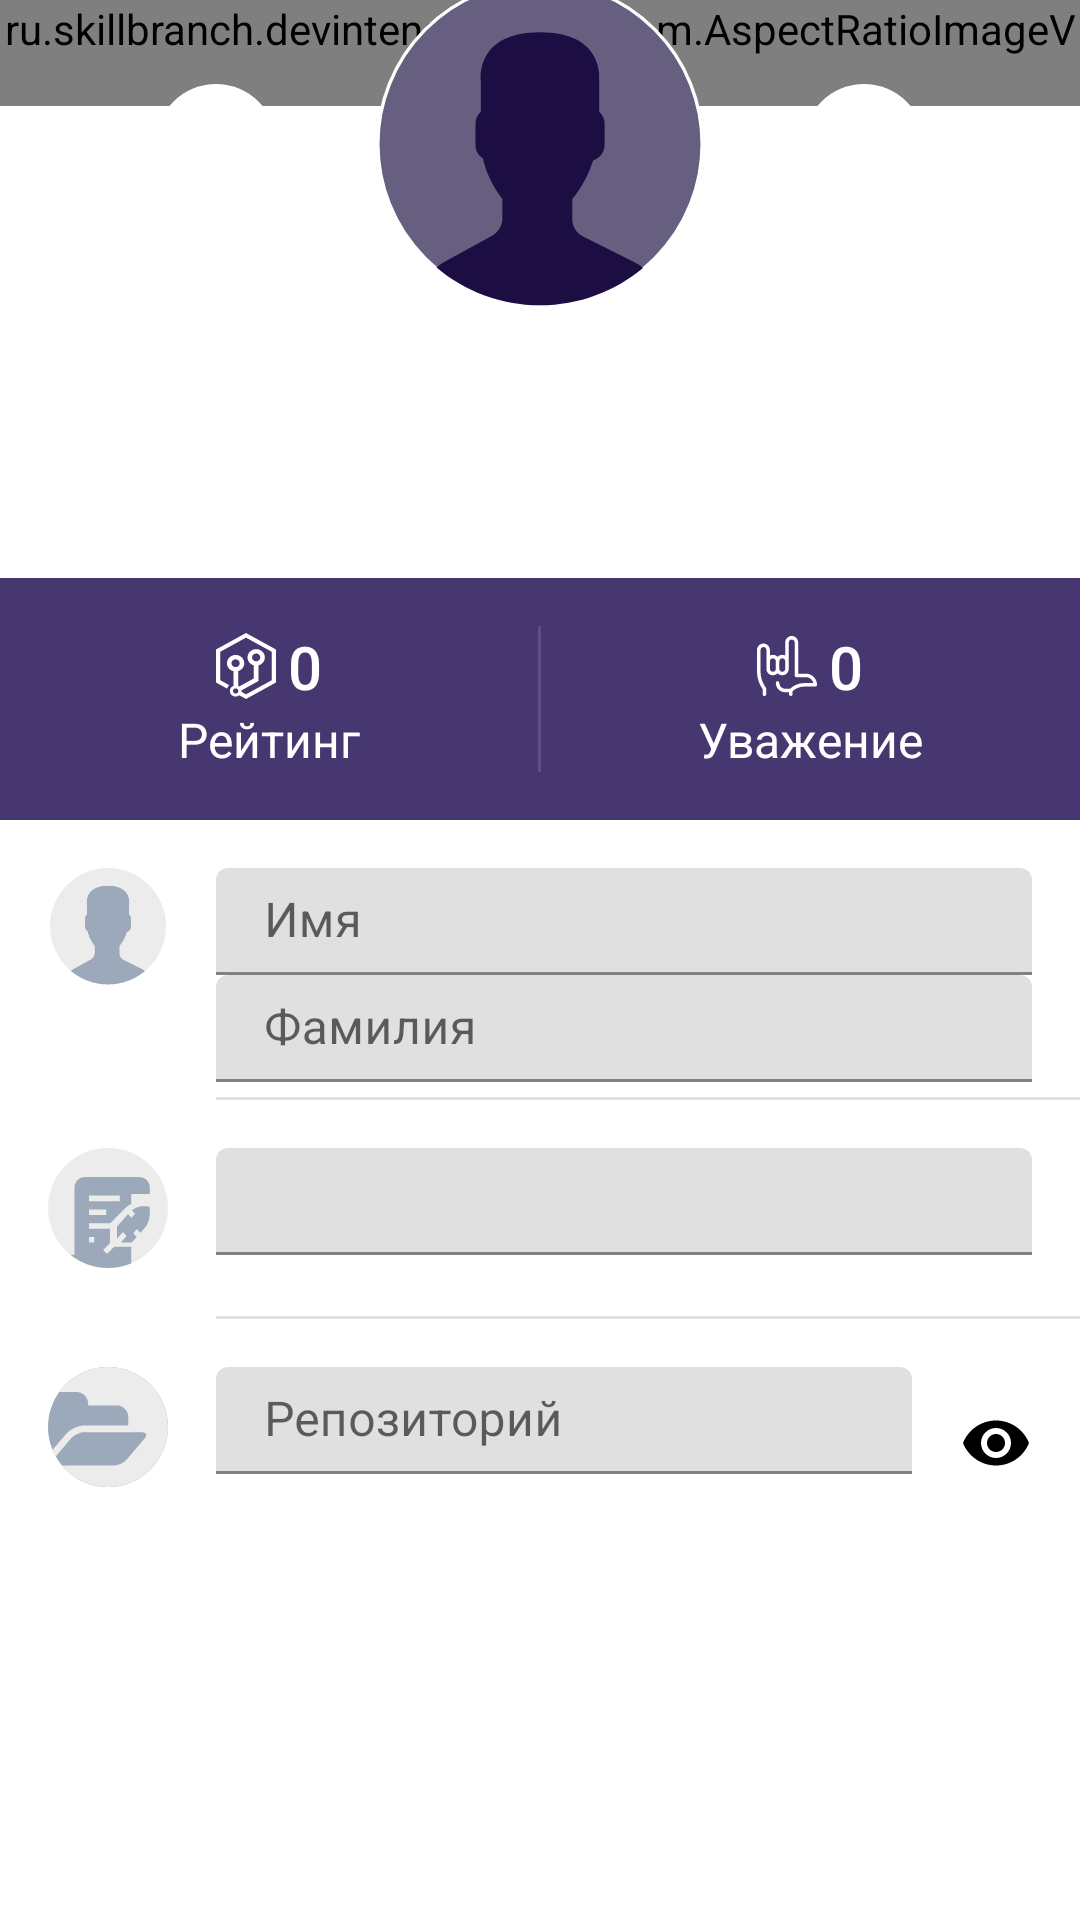

Icon bounding boxes for this 1080px×1920px phone screenshot, format (x1, y1, x2, y2):
eye: (963, 1420, 1029, 1466)
repo: (48, 1367, 168, 1487)
